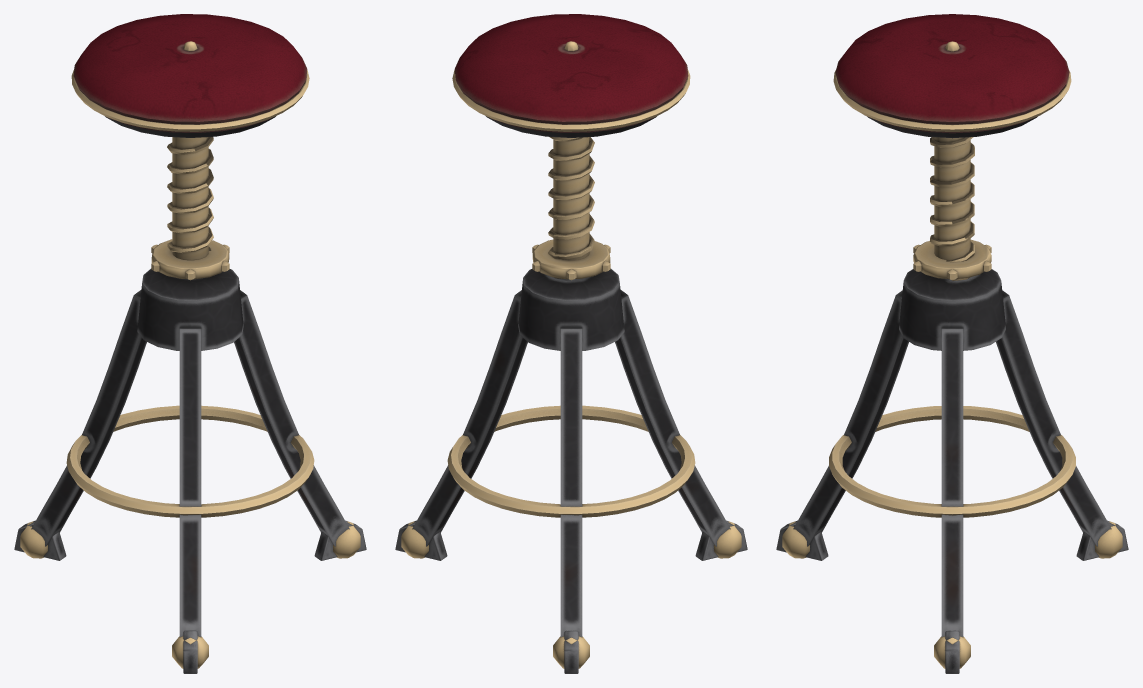
The model's file is ShopStool.fbx.
3 renders of one model, left to right at view 1: azimuth 30°, elevation 25°; view 2: azimuth 150°, elevation 25°; view 3: azimuth 270°, elevation 25°, orthographic.
Parts seen in each view (by area): view 1: ShopStool; view 2: ShopStool; view 3: ShopStool.
Part boxes in pixels (box(x1,y1,x2,y2)): ShopStool: box(14, 14, 366, 673); ShopStool: box(395, 14, 747, 673); ShopStool: box(776, 14, 1128, 673).
Bounding box in the file's own units: 133 × 250 × 144.
